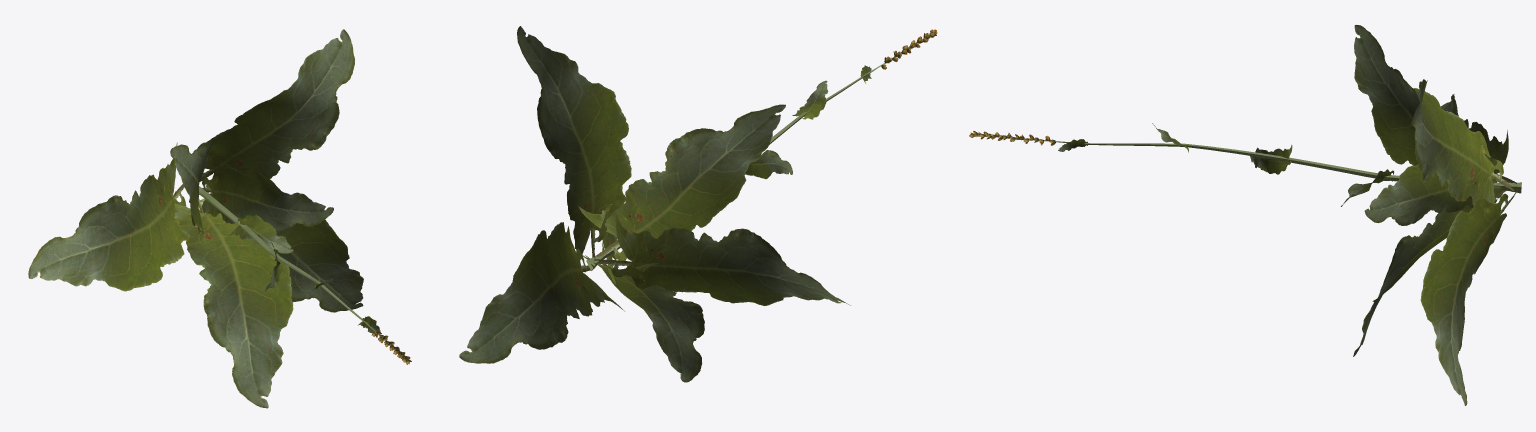
3 renders of one model, left to right at view 1: azimuth 30°, elevation 25°; view 2: azimuth 150°, elevation 25°; view 3: azimuth 270°, elevation 25°, orthographic. The views are drawn at different scales.
Visible parts, largest first — view 1: GC16_1; view 2: GC16_1; view 3: GC16_1.
Part boxes in pixels (box(x1,y1,x2,y2)): GC16_1: box(28, 29, 411, 408); GC16_1: box(459, 26, 937, 382); GC16_1: box(969, 25, 1521, 405).
Bounding box in the file's own units: 0.773 × 0.7059 × 0.9568.
Materials: 4 (4 with a texture image).
